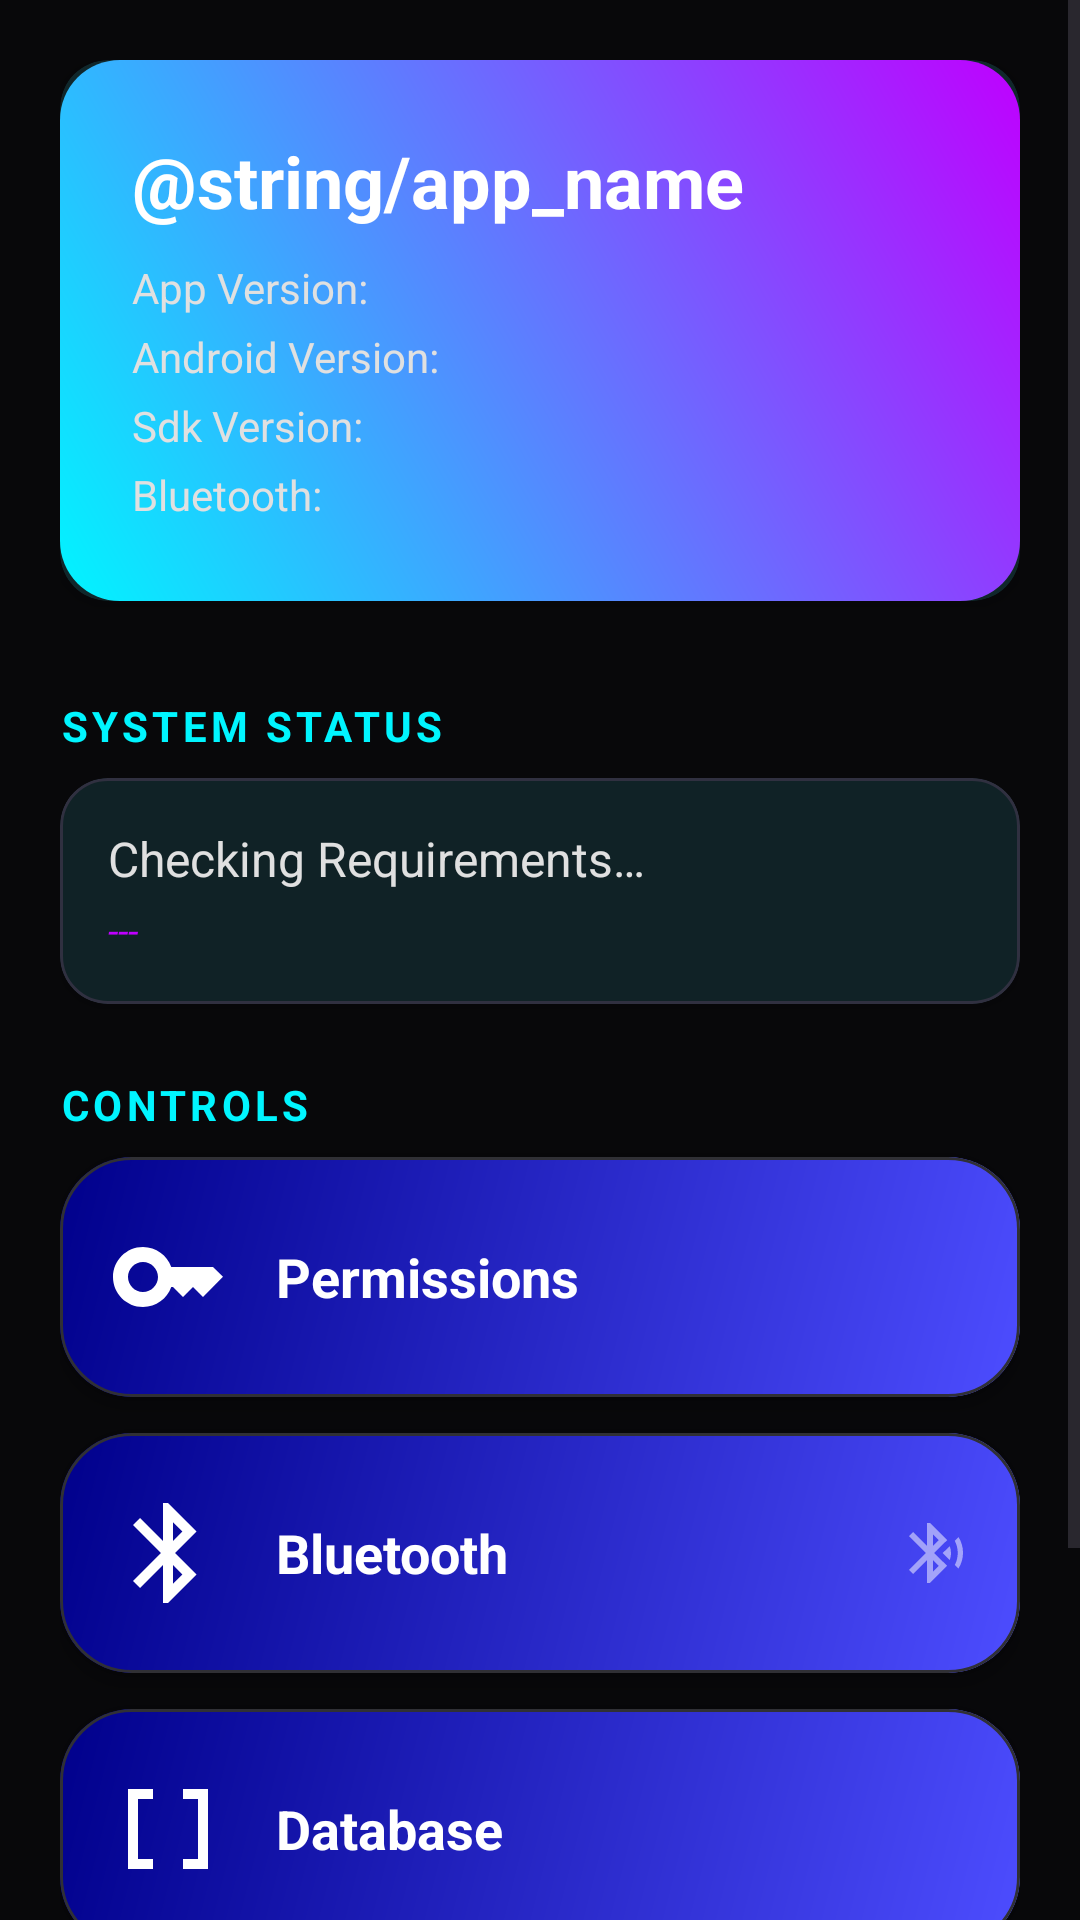

Named icons in this screenshot (1080*1920) and their centers, point (x, y):
data array: point (168, 1829)
key: point (168, 1277)
